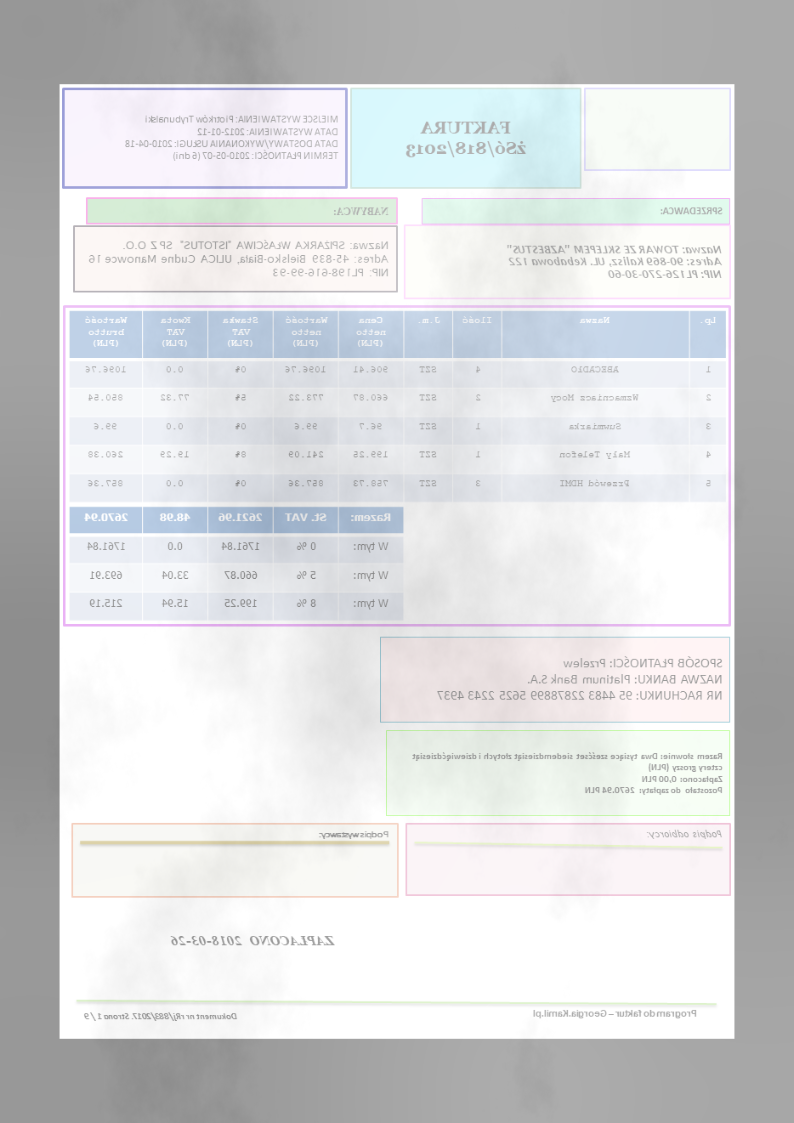Table: (68, 309, 728, 503), (69, 506, 406, 621)
TextBox: (434, 653, 724, 704), (411, 751, 725, 796), (87, 239, 392, 280), (123, 111, 341, 163), (507, 243, 724, 281), (403, 118, 530, 160), (168, 932, 338, 949), (531, 1006, 699, 1020), (82, 1010, 239, 1024), (644, 827, 725, 842), (659, 204, 726, 218), (319, 829, 391, 842), (332, 205, 391, 219)
